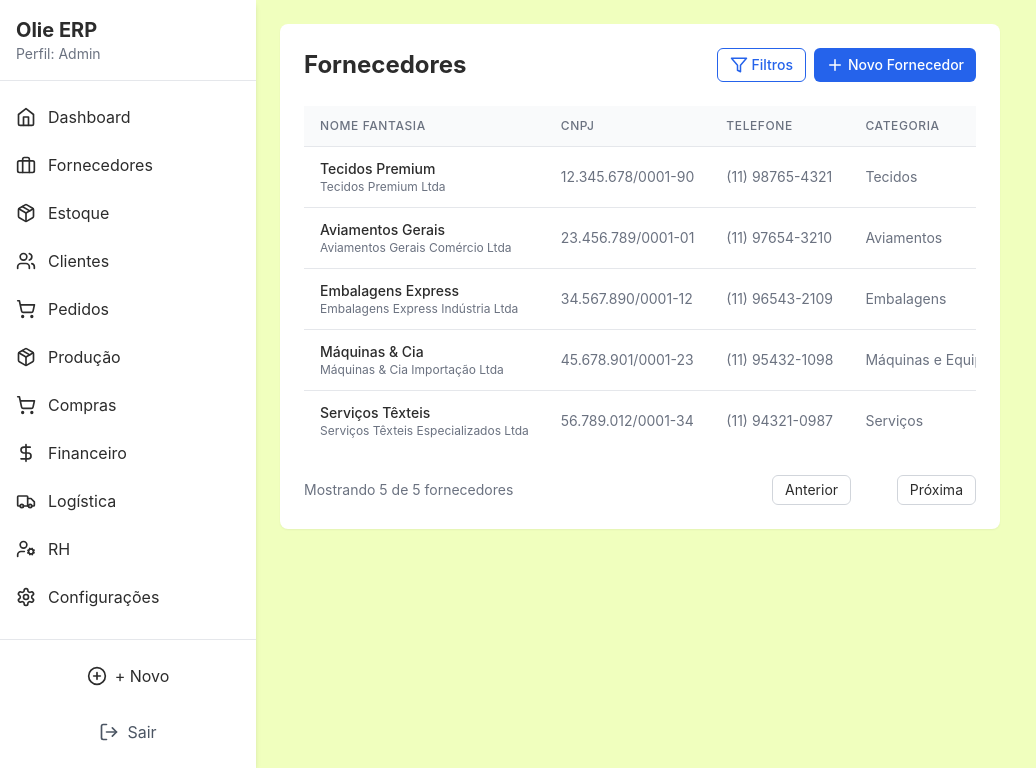
Test: FornecedorListPage › deve mostrar mensagem quando nenhum fornecedor for encontrado
// Abre o painel de filtros
Click the button "Filtros" at (761, 65), box [717,48,806,82]
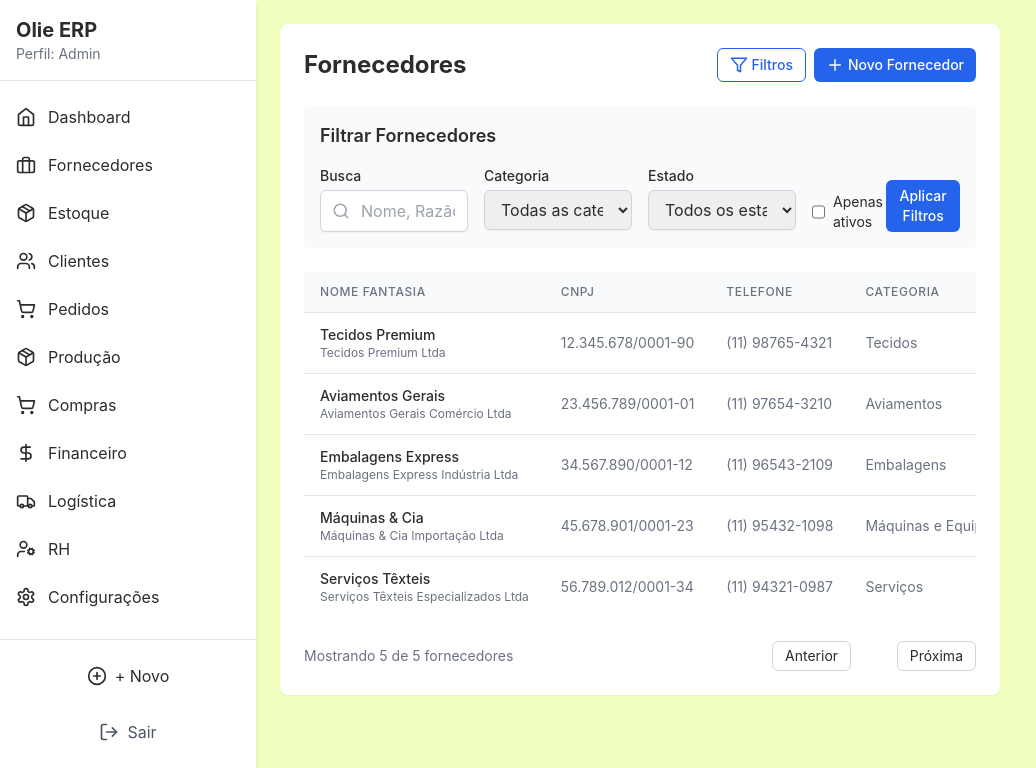
// Preenche o campo de busca com um termo que não existe
Type "XYZ123" into the field with placeholder "Nome, Razão Social ou CNPJ" at (394, 211), box [320,190,468,232]
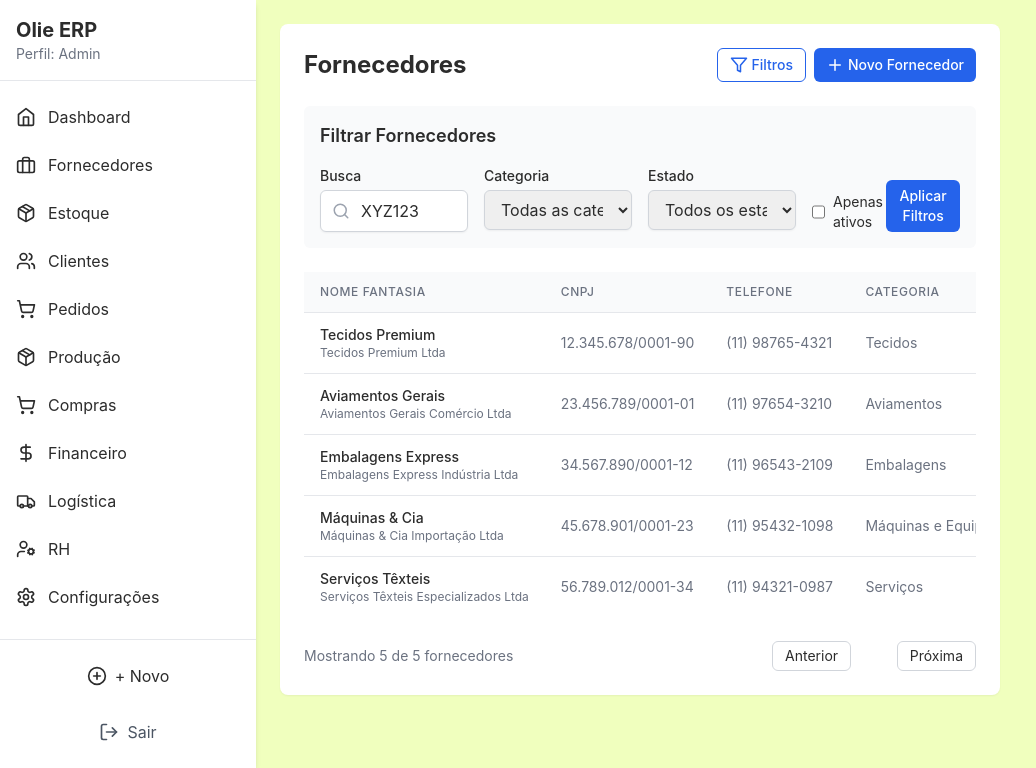
// Aplica os filtros
Click the button "Aplicar Filtros" at (923, 206), box [886,180,960,232]
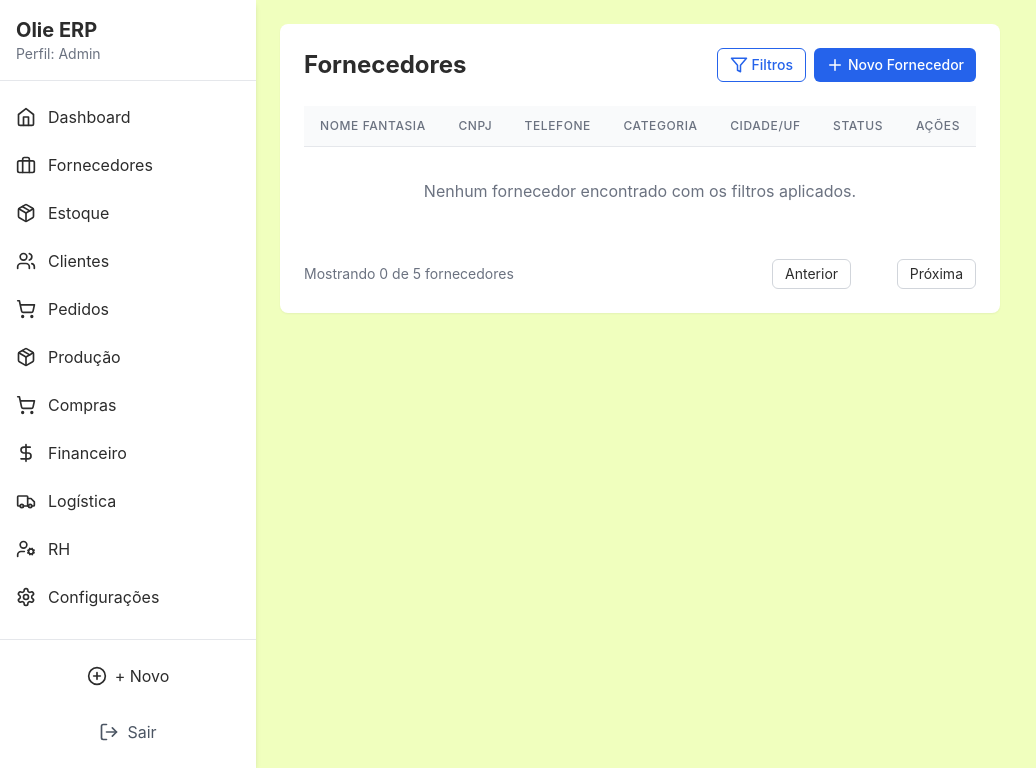
Expected: the text "Nenhum fornecedor encontrado com os filtros aplicados." is shown, [304,146,976,235]
